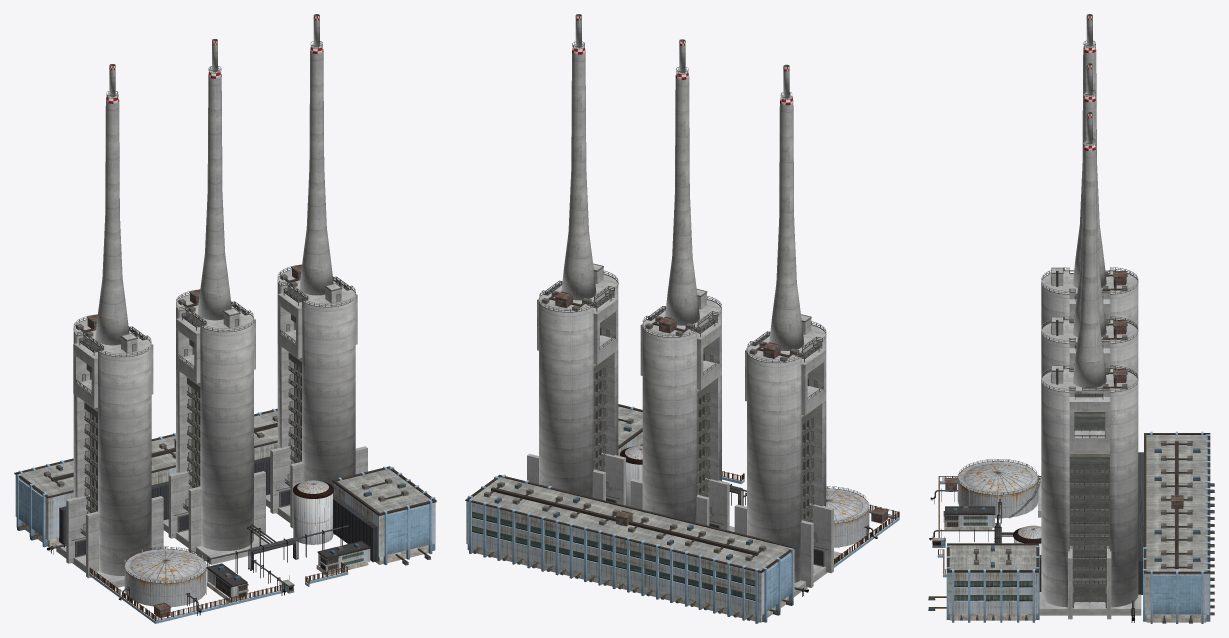
3 renders of one model, left to right at view 1: azimuth 30°, elevation 25°; view 2: azimuth 150°, elevation 25°; view 3: azimuth 270°, elevation 25°, orthographic. The views are drawn at different scales.
Visible parts, largest first — view 1: Tres2, Tres3, Tres1, Gate, Cube; view 2: Cube, Tres3, Tres2, Tres1, Gate; view 3: Tres1, Gate, Cube, Tres3, Tres2.
Part boxes in pixels (left/top/right/bottom): Tres2: left=163, top=39, right=269, bottom=564; Tres3: left=56, top=64, right=163, bottom=588; Tres1: left=266, top=14, right=367, bottom=535; Gate: left=89, top=466, right=436, bottom=623; Cube: left=14, top=408, right=277, bottom=554; Cube: left=465, top=474, right=808, bottom=623; Tres3: left=734, top=64, right=844, bottom=597; Tres2: left=630, top=39, right=734, bottom=531; Tres1: left=527, top=14, right=625, bottom=505; Gate: left=618, top=404, right=899, bottom=567; Tres1: left=1039, top=112, right=1141, bottom=619; Gate: left=928, top=459, right=1041, bottom=622; Cube: left=1131, top=431, right=1214, bottom=623; Tres3: left=1038, top=14, right=1138, bottom=517; Tres2: left=1041, top=63, right=1138, bottom=378.
Size of the model in its own units: 13344 by 20706 by 10993.
